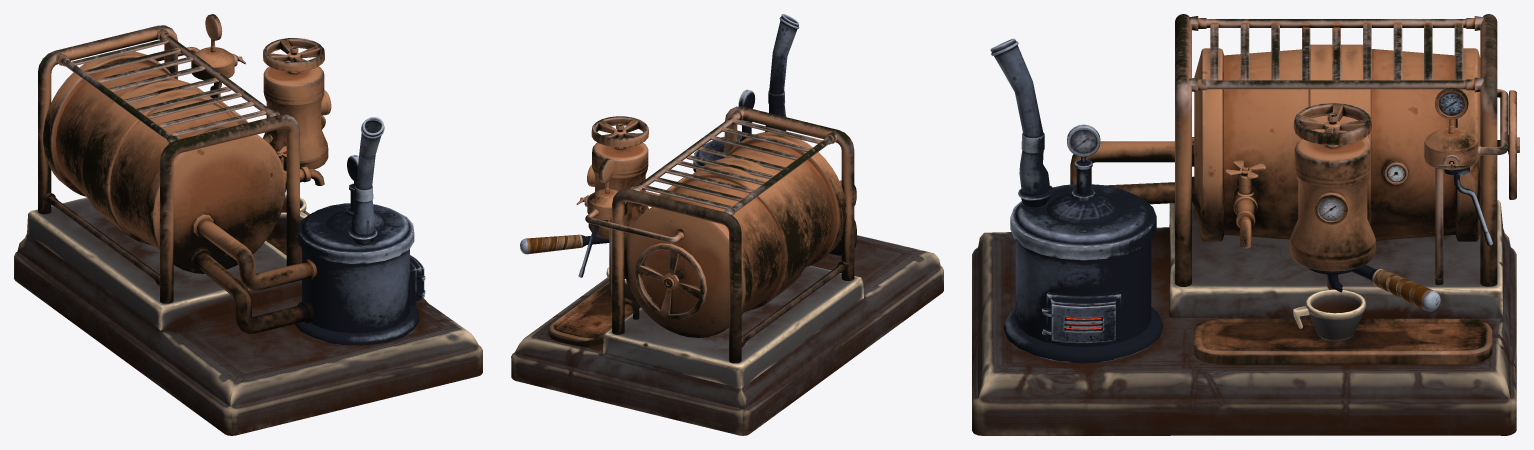
The model's file is sketchfab.fbx.
The picture shows the model from 3 angles, left to right: view 1: azimuth 30°, elevation 25°; view 2: azimuth 150°, elevation 25°; view 3: azimuth 270°, elevation 25°; orthographic projection. The views are drawn at different scales.
Parts seen in each view (by area): view 1: l1_low, l2_low, l3_low; view 2: l1_low, l2_low, l3_low; view 3: l1_low, l2_low, l3_low.
Part boxes in pixels (x1,y1,x2,y2): l1_low: [14, 51, 482, 435]; l2_low: [43, 14, 425, 333]; l3_low: [38, 25, 331, 303]; l1_low: [511, 119, 943, 435]; l2_low: [520, 14, 856, 346]; l3_low: [587, 106, 854, 363]; l1_low: [972, 44, 1516, 435]; l2_low: [990, 16, 1519, 364]; l3_low: [1175, 14, 1497, 341].
Size of the model in its own units: 190 by 175 by 258.
